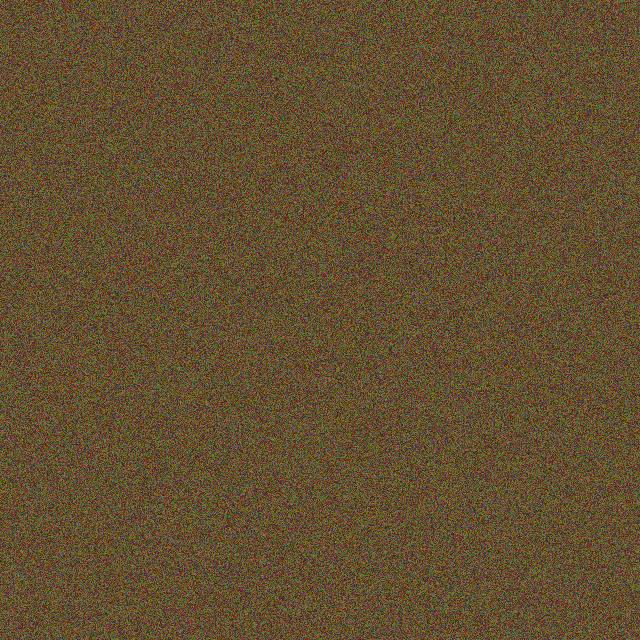human: (239, 85, 364, 213)
